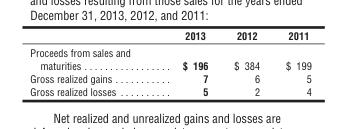table: (29, 29, 310, 97)
table column: (29, 29, 155, 97), (155, 29, 220, 97), (220, 29, 272, 97), (272, 29, 310, 97)
table column header: (29, 29, 310, 43)
table row: (29, 43, 310, 71), (29, 29, 310, 43), (29, 71, 310, 84), (29, 84, 310, 97)
